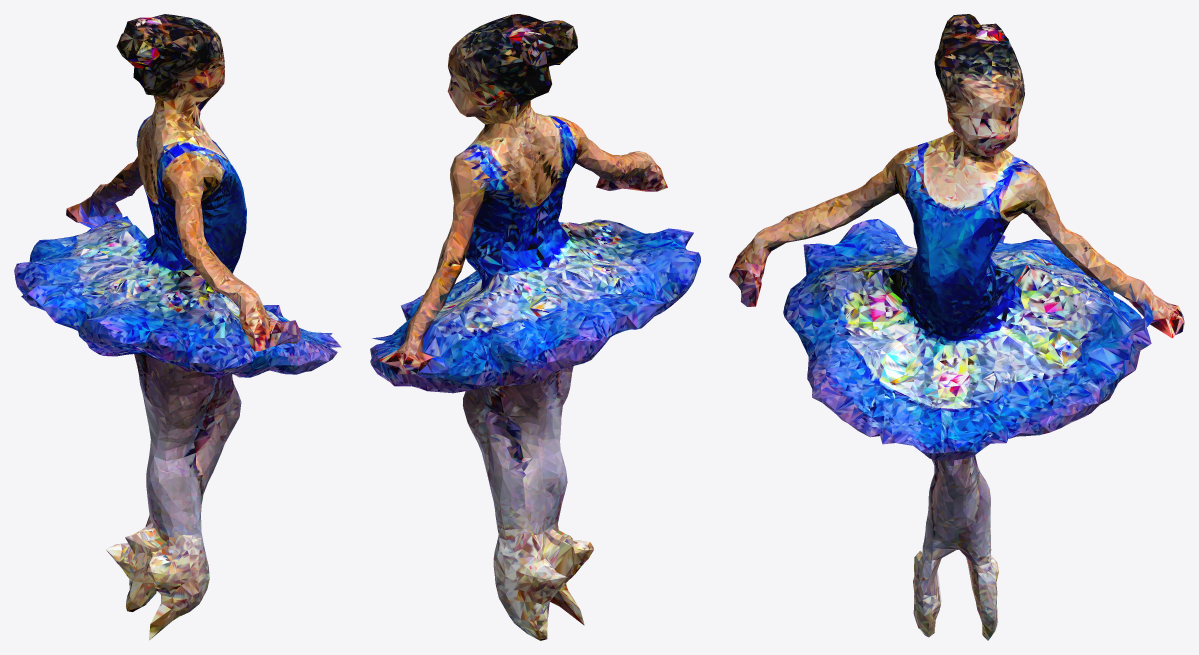
The model's file is girl_dancing-depth.glb.
3 renders of one model, left to right at view 1: azimuth 30°, elevation 25°; view 2: azimuth 150°, elevation 25°; view 3: azimuth 270°, elevation 25°, orthographic. The views are drawn at different scales.
Parts seen in each view (by area): view 1: extracted_mesh; view 2: extracted_mesh; view 3: extracted_mesh.
Part boxes in pixels (box(x1,y1,x2,y2)): extracted_mesh: box(14, 14, 341, 640); extracted_mesh: box(370, 14, 700, 640); extracted_mesh: box(729, 14, 1184, 640).
Size of the model in its own units: 0.529 by 1.09 by 0.7188.
Materials: 1 (1 with a texture image).
